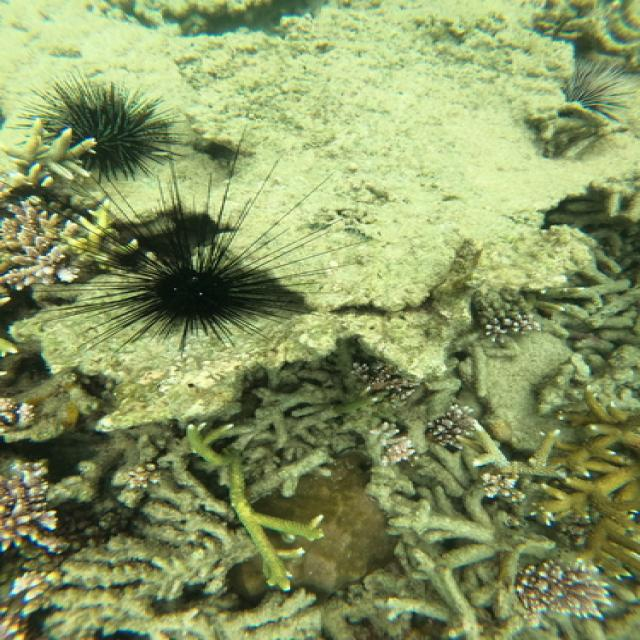Urchin: (41, 130, 372, 344)
